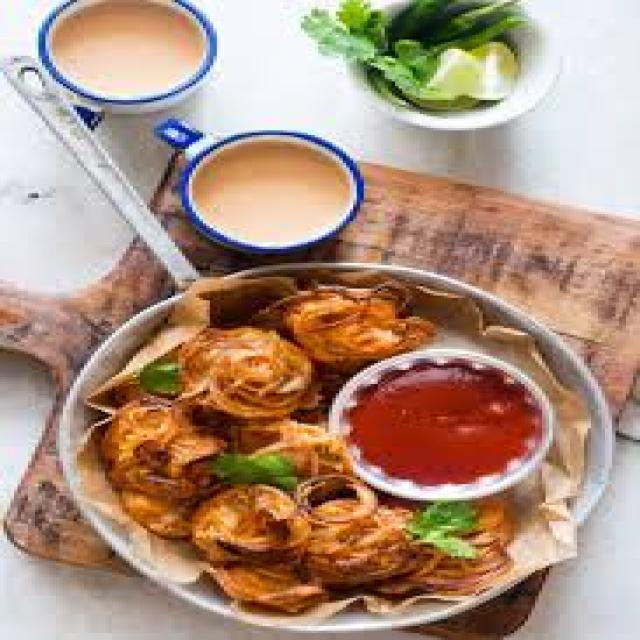BAJI: (106, 290, 516, 606)
